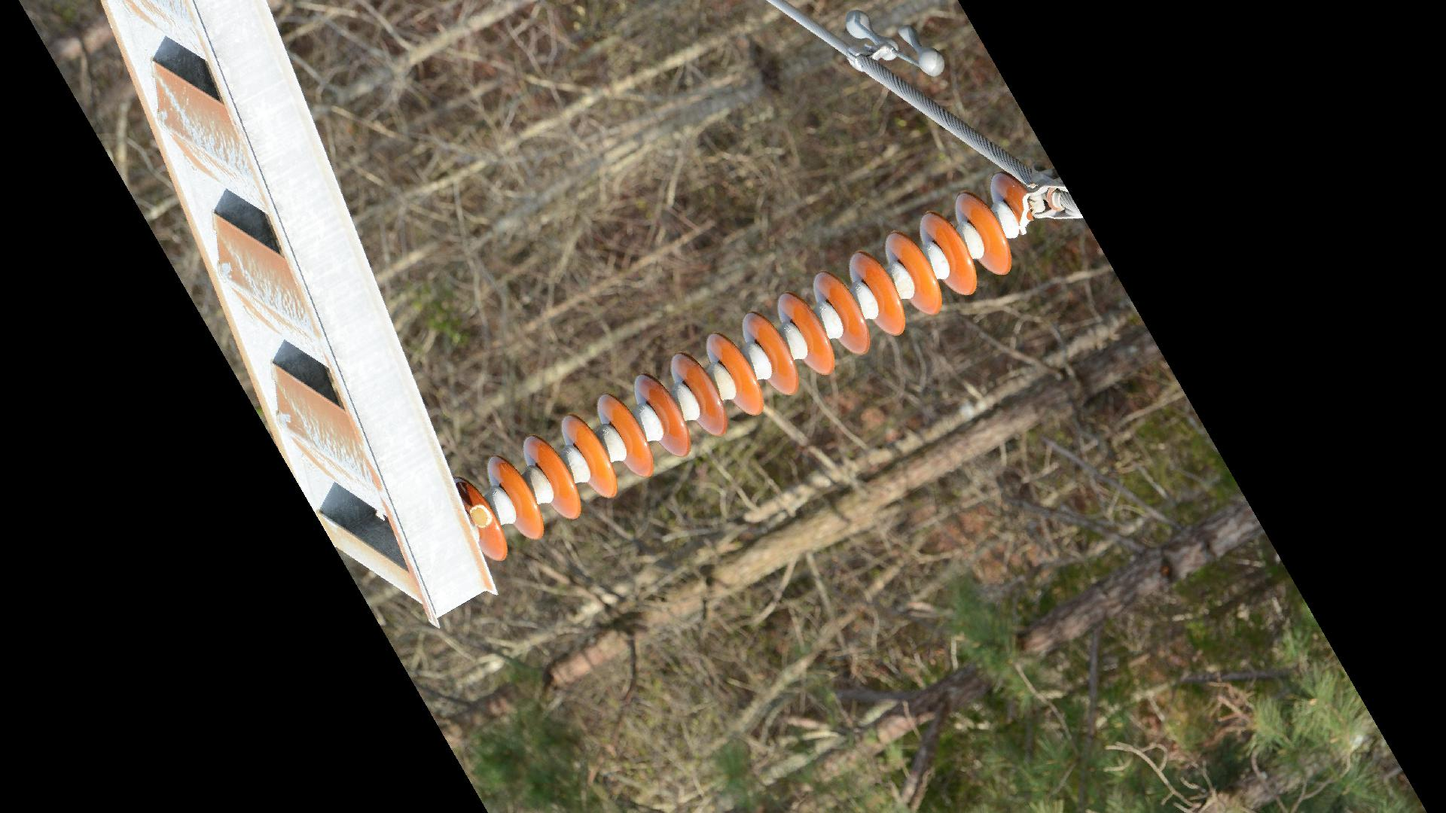insulator: (449, 168, 1040, 564)
insulator_breakage: (1017, 186, 1038, 239)
insulator_flashover: (468, 501, 493, 529)
